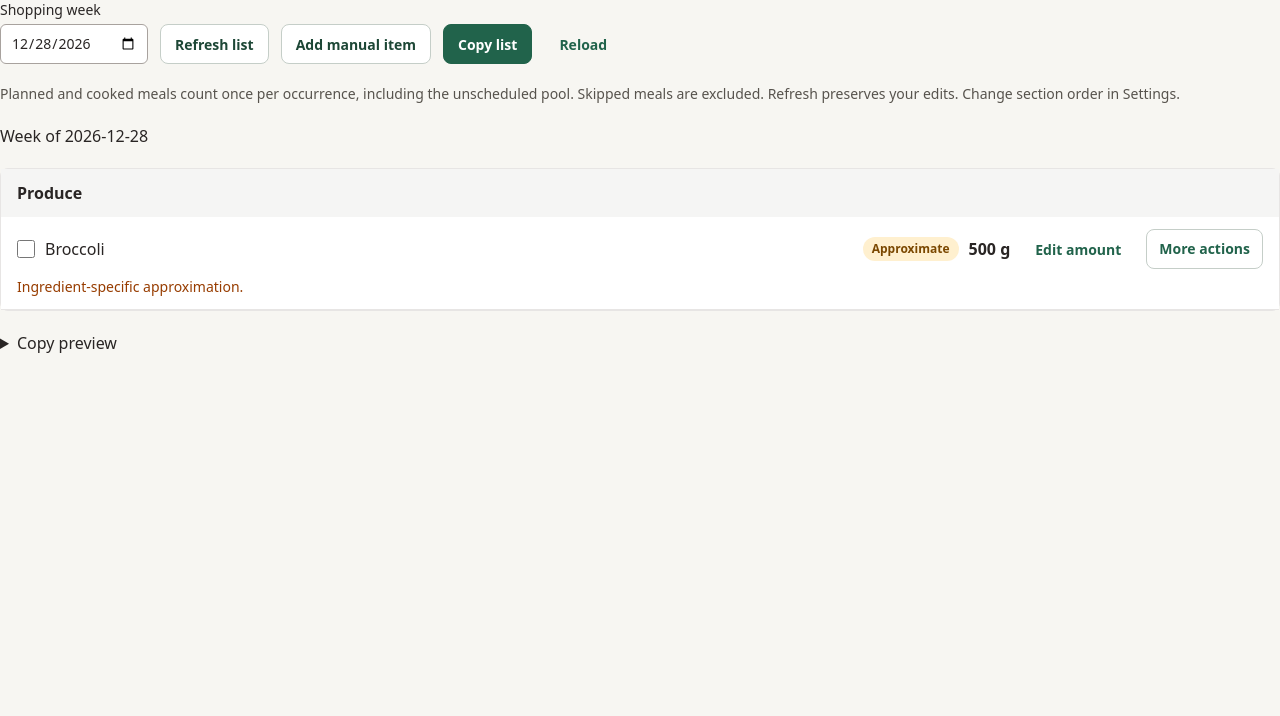
Test case: shopping editing and copying › refreshes explicitly, preserves a checked override and copies backend text for the selected week
The width and height of the screenshot is (1280, 716).
Click the checkbox labelled "Broccoli". click: (26, 249)
box: x1=17 y1=240 x2=35 y2=258
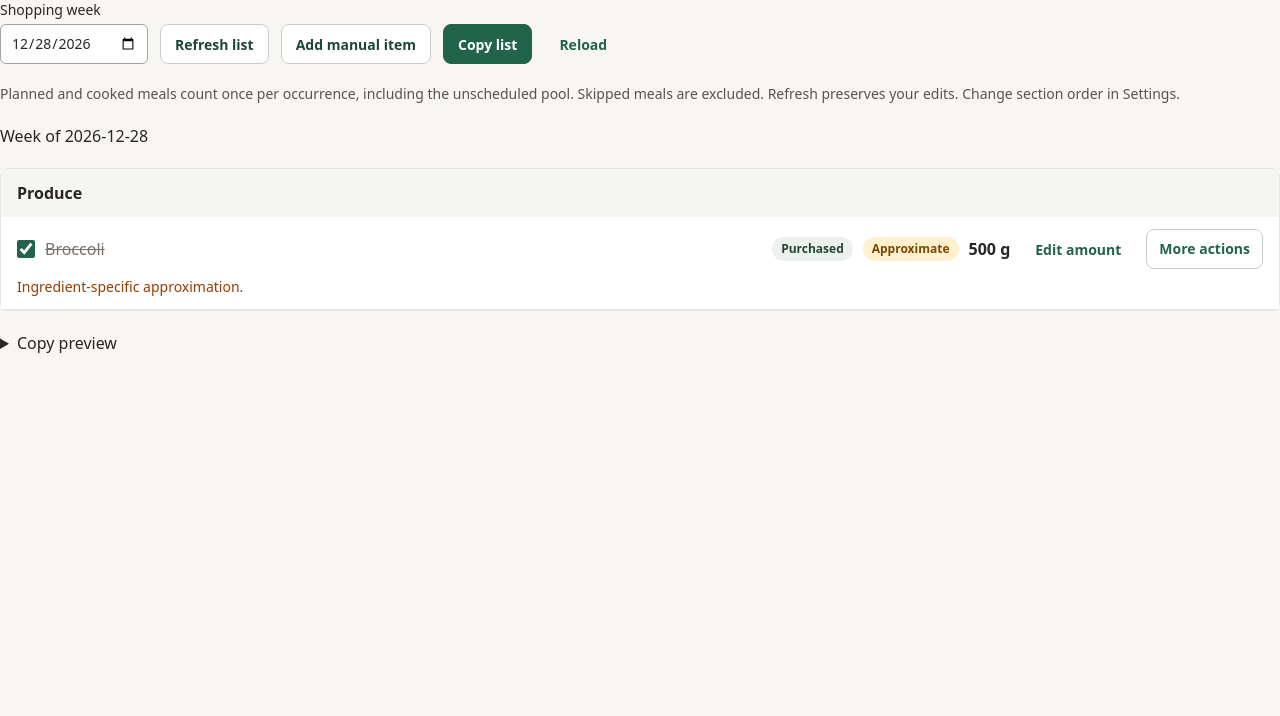
Click the button with aria-label "Edit amount for Broccoli". click: (1078, 249)
box: x1=1020 y1=229 x2=1136 y2=269
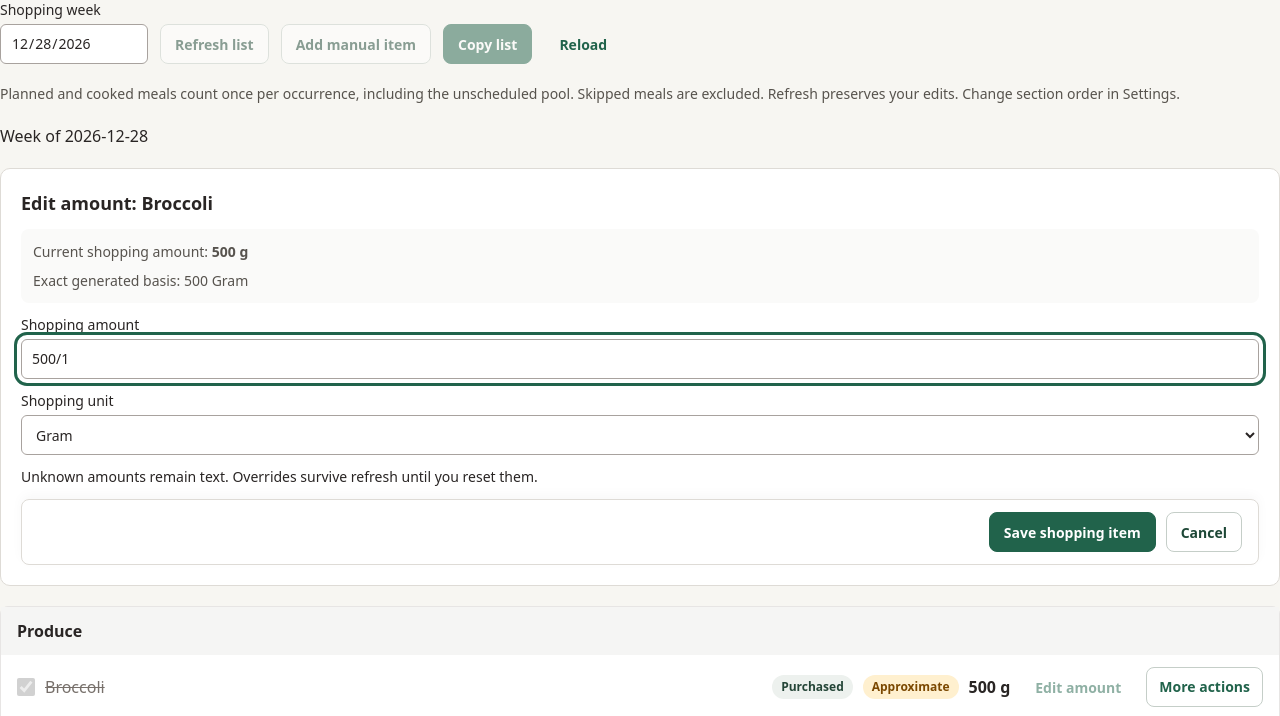
Replace the text in the field labelled "Shopping amount" with "1 1/2". click: (640, 359)
box: x1=21 y1=339 x2=1259 y2=379
Select "Kilogram" in the dropdown labelled "Shopping unit". click: (640, 435)
box: x1=21 y1=415 x2=1259 y2=455
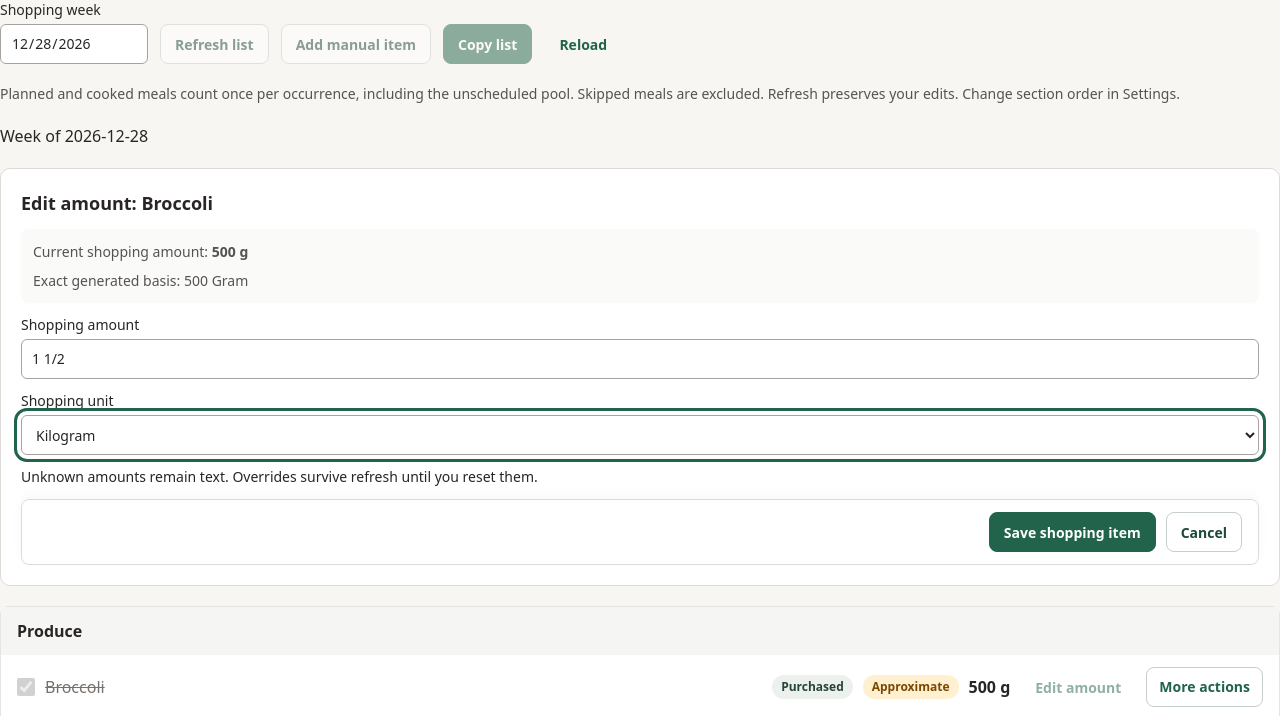
Click the button "Save shopping item". click: (1072, 532)
box: x1=989 y1=512 x2=1156 y2=552
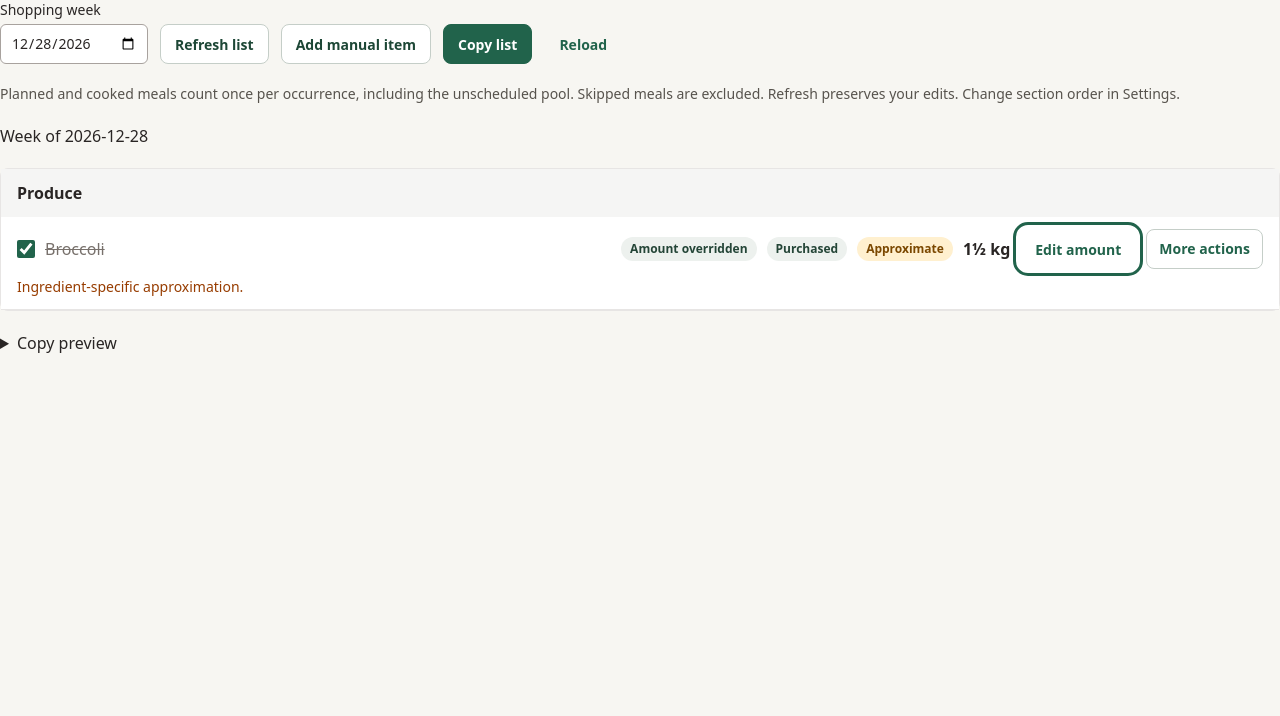
Click the button "Refresh list". click: (214, 44)
box: x1=160 y1=24 x2=269 y2=64
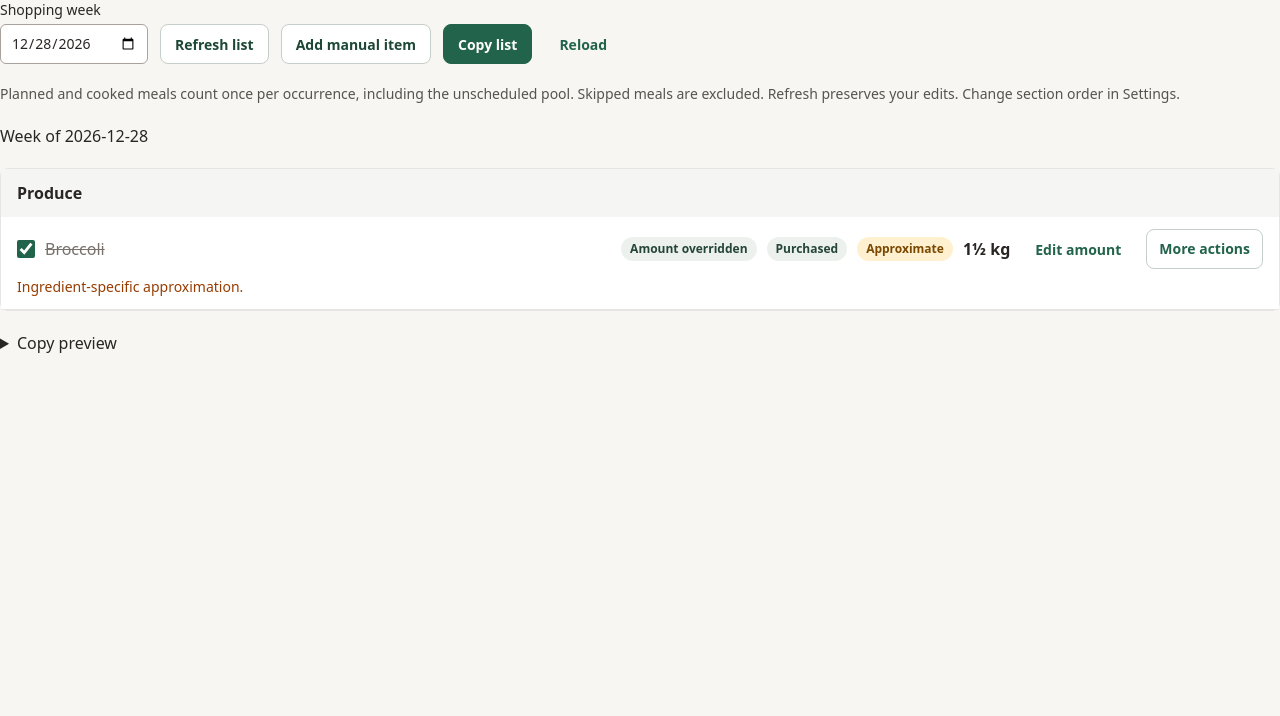
Expected: the text "Approximate" is shown, x1=857 y1=237 x2=953 y2=261
Now the checkbox labelled "Broccoli" is checked, box x1=17 y1=240 x2=35 y2=258
Now the text "1½ kg" is shown, box x1=963 y1=237 x2=1010 y2=261
Click the button "Copy list". click: (488, 44)
box: x1=443 y1=24 x2=532 y2=64
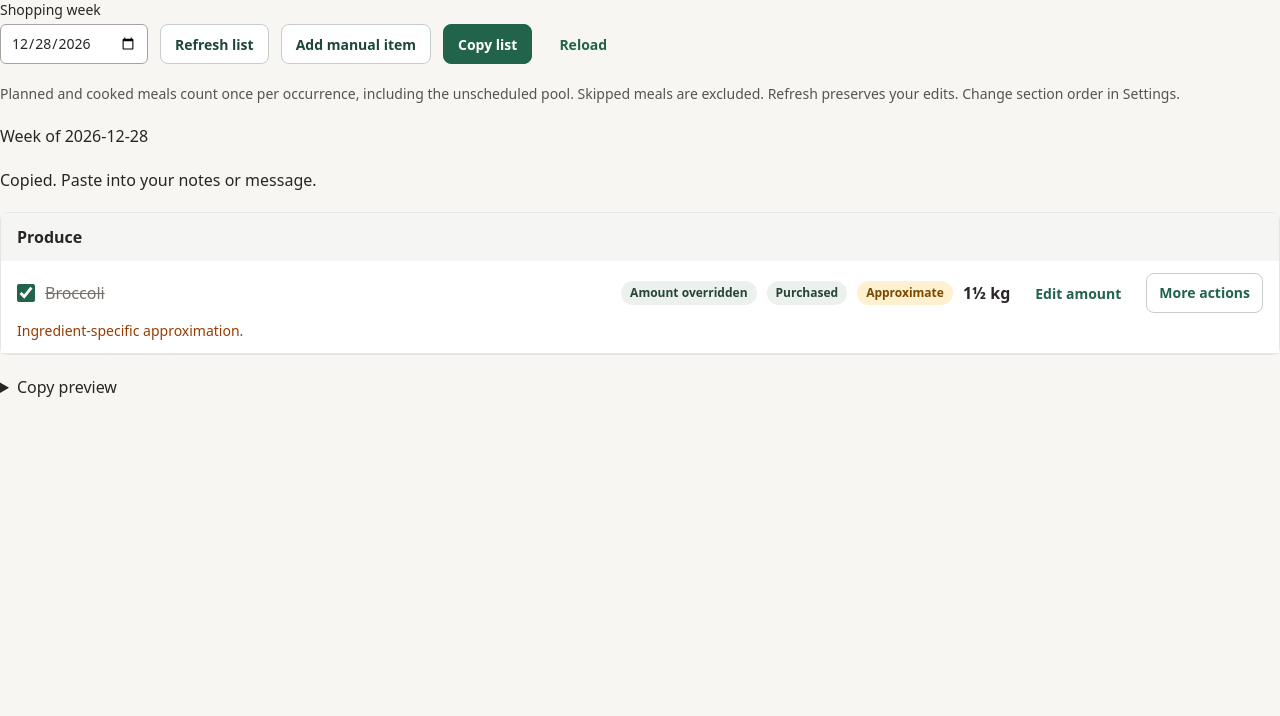
Now the text "Copied. Paste into your notes or message." is shown, box x1=0 y1=169 x2=317 y2=191
